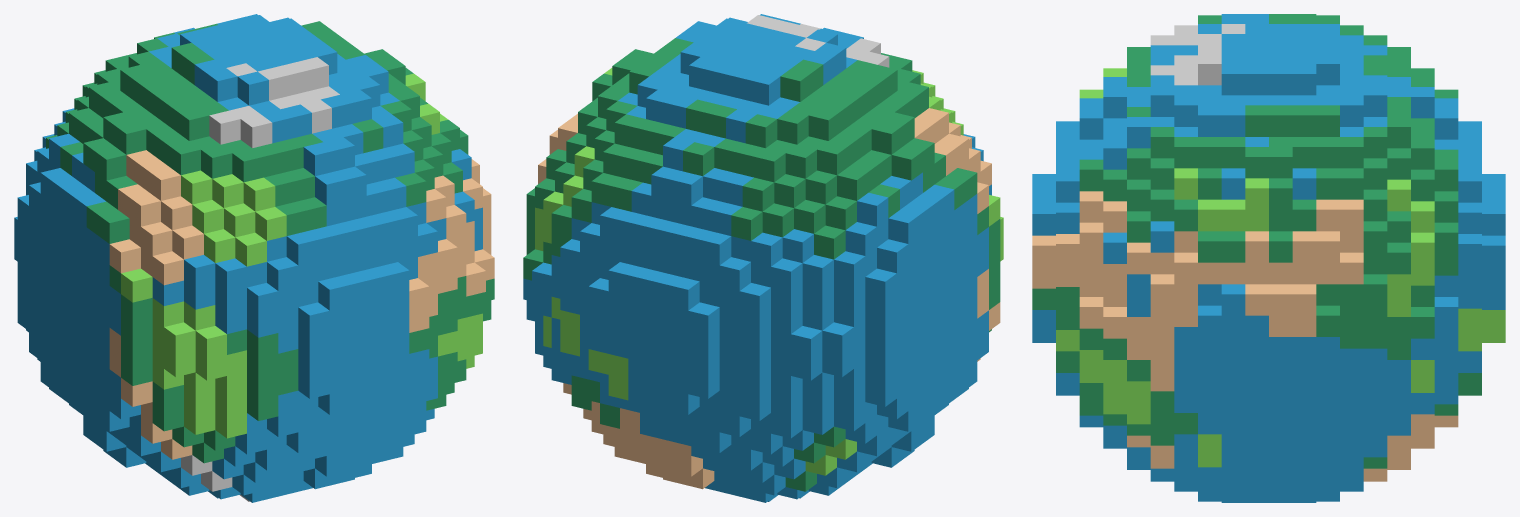
File: earth3dteste.obj
3 views of the same model, side by side, from view 1: azimuth 30°, elevation 25°; view 2: azimuth 150°, elevation 25°; view 3: azimuth 270°, elevation 25° (orthographic). The views are drawn at different scales.
Size of the model in its own units: 1.9 by 2 by 2.
Materials: 1 (1 with a texture image).
